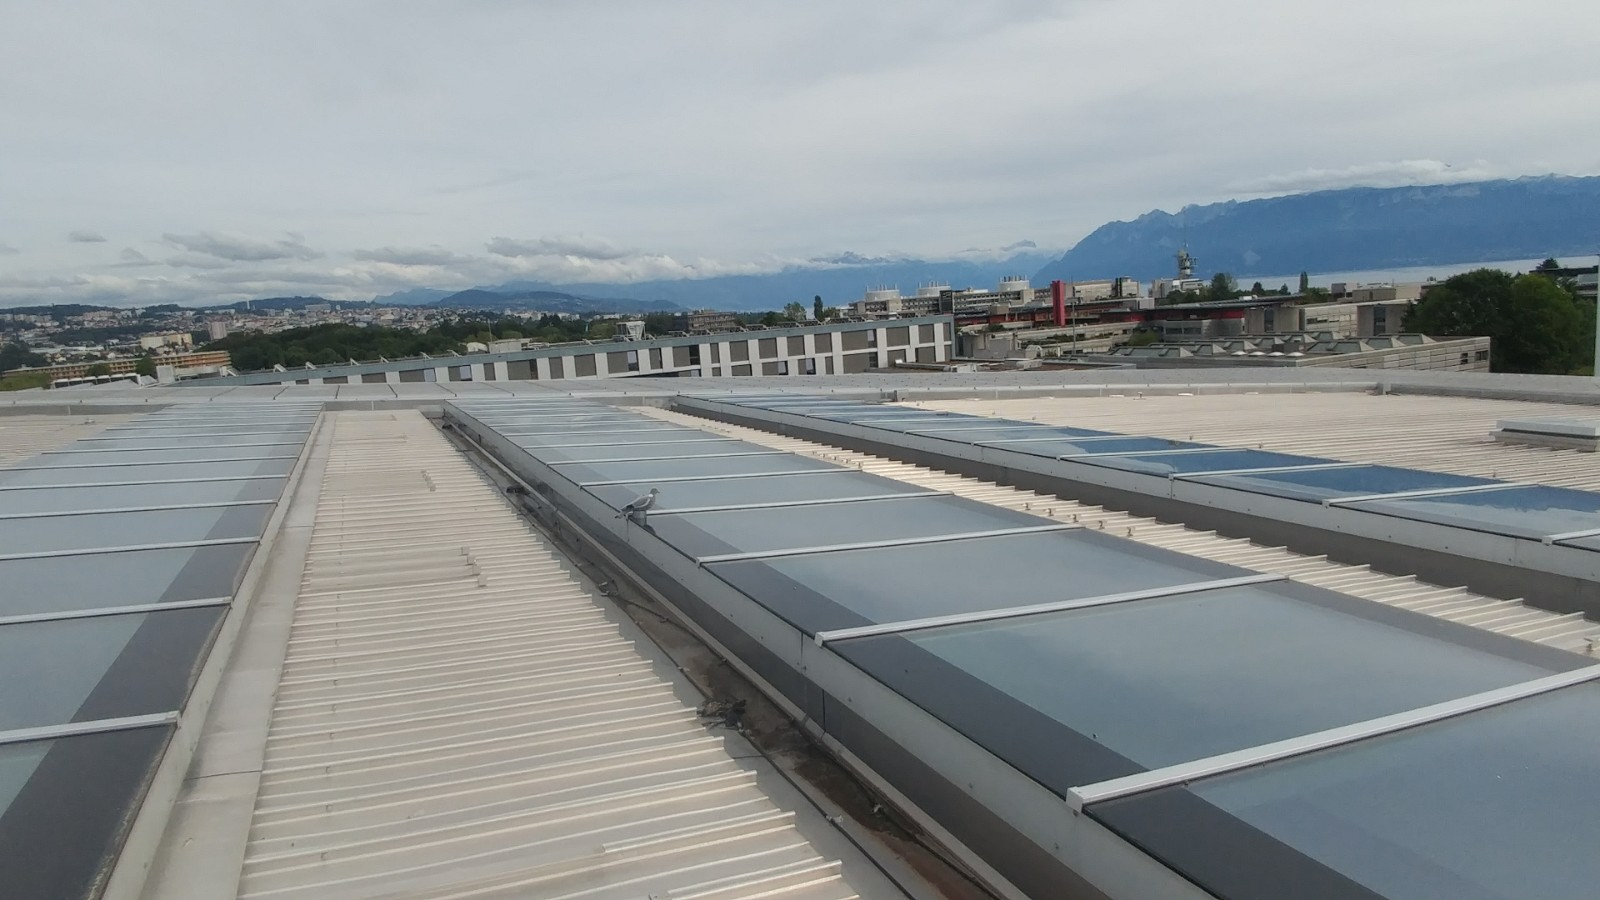Pigeon: (610, 486, 667, 526)
